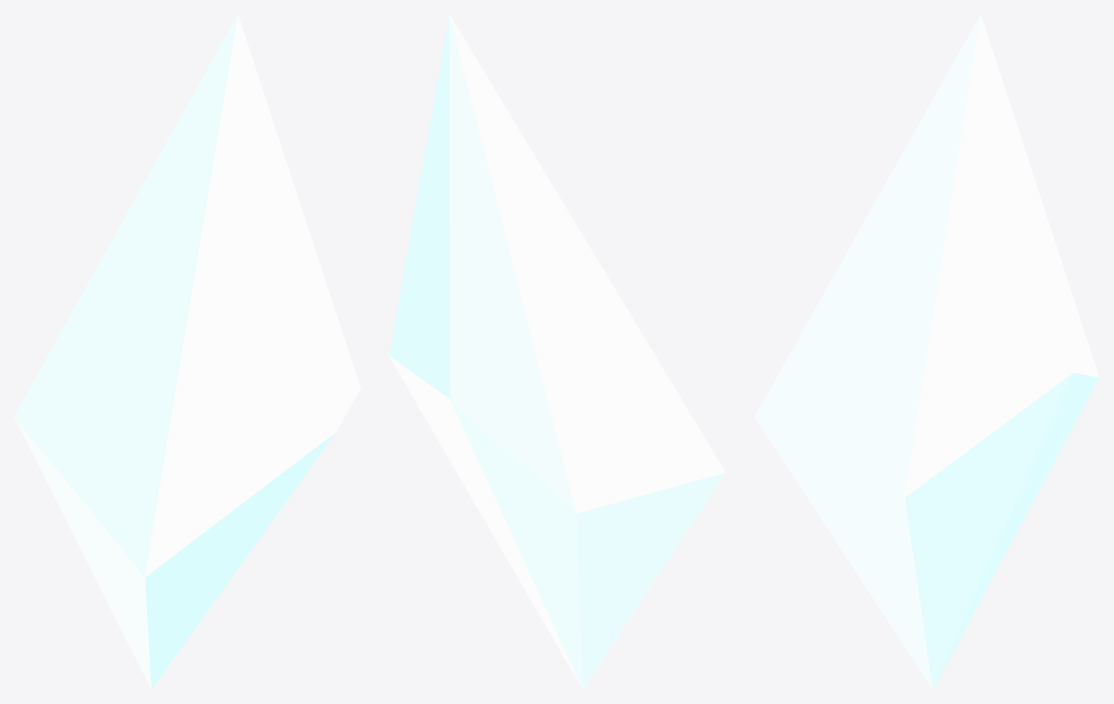
File: ice_shard.glb
3 views of the same model, side by side, from view 1: azimuth 30°, elevation 25°; view 2: azimuth 150°, elevation 25°; view 3: azimuth 270°, elevation 25° (orthographic). The views are drawn at different scales.
Visible parts, largest first — view 1: ice_shard; view 2: ice_shard; view 3: ice_shard.
Boxes of the visible parts, left/top/right/bottom form: ice_shard: left=14, top=14, right=360, bottom=689; ice_shard: left=389, top=14, right=725, bottom=689; ice_shard: left=754, top=14, right=1099, bottom=689.
Size of the model in its own units: 0.0754 by 0.17 by 0.0722.
